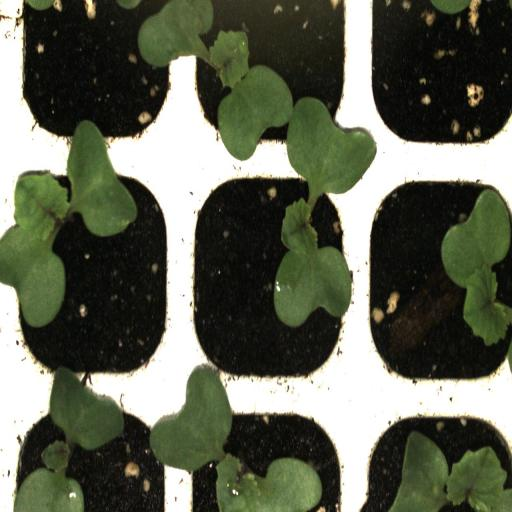seedling: (0, 154, 178, 393), (180, 154, 357, 391), (361, 159, 512, 390), (181, 0, 358, 156), (0, 388, 176, 512), (180, 389, 357, 512)
